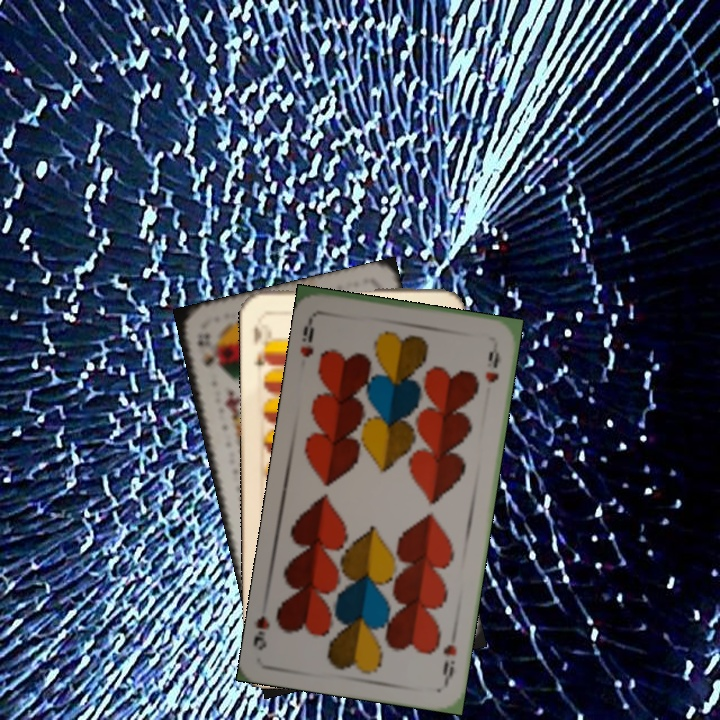E10: (249, 321, 274, 369)
H9: (296, 312, 319, 360), (438, 640, 460, 686)
SK: (193, 329, 217, 369)
